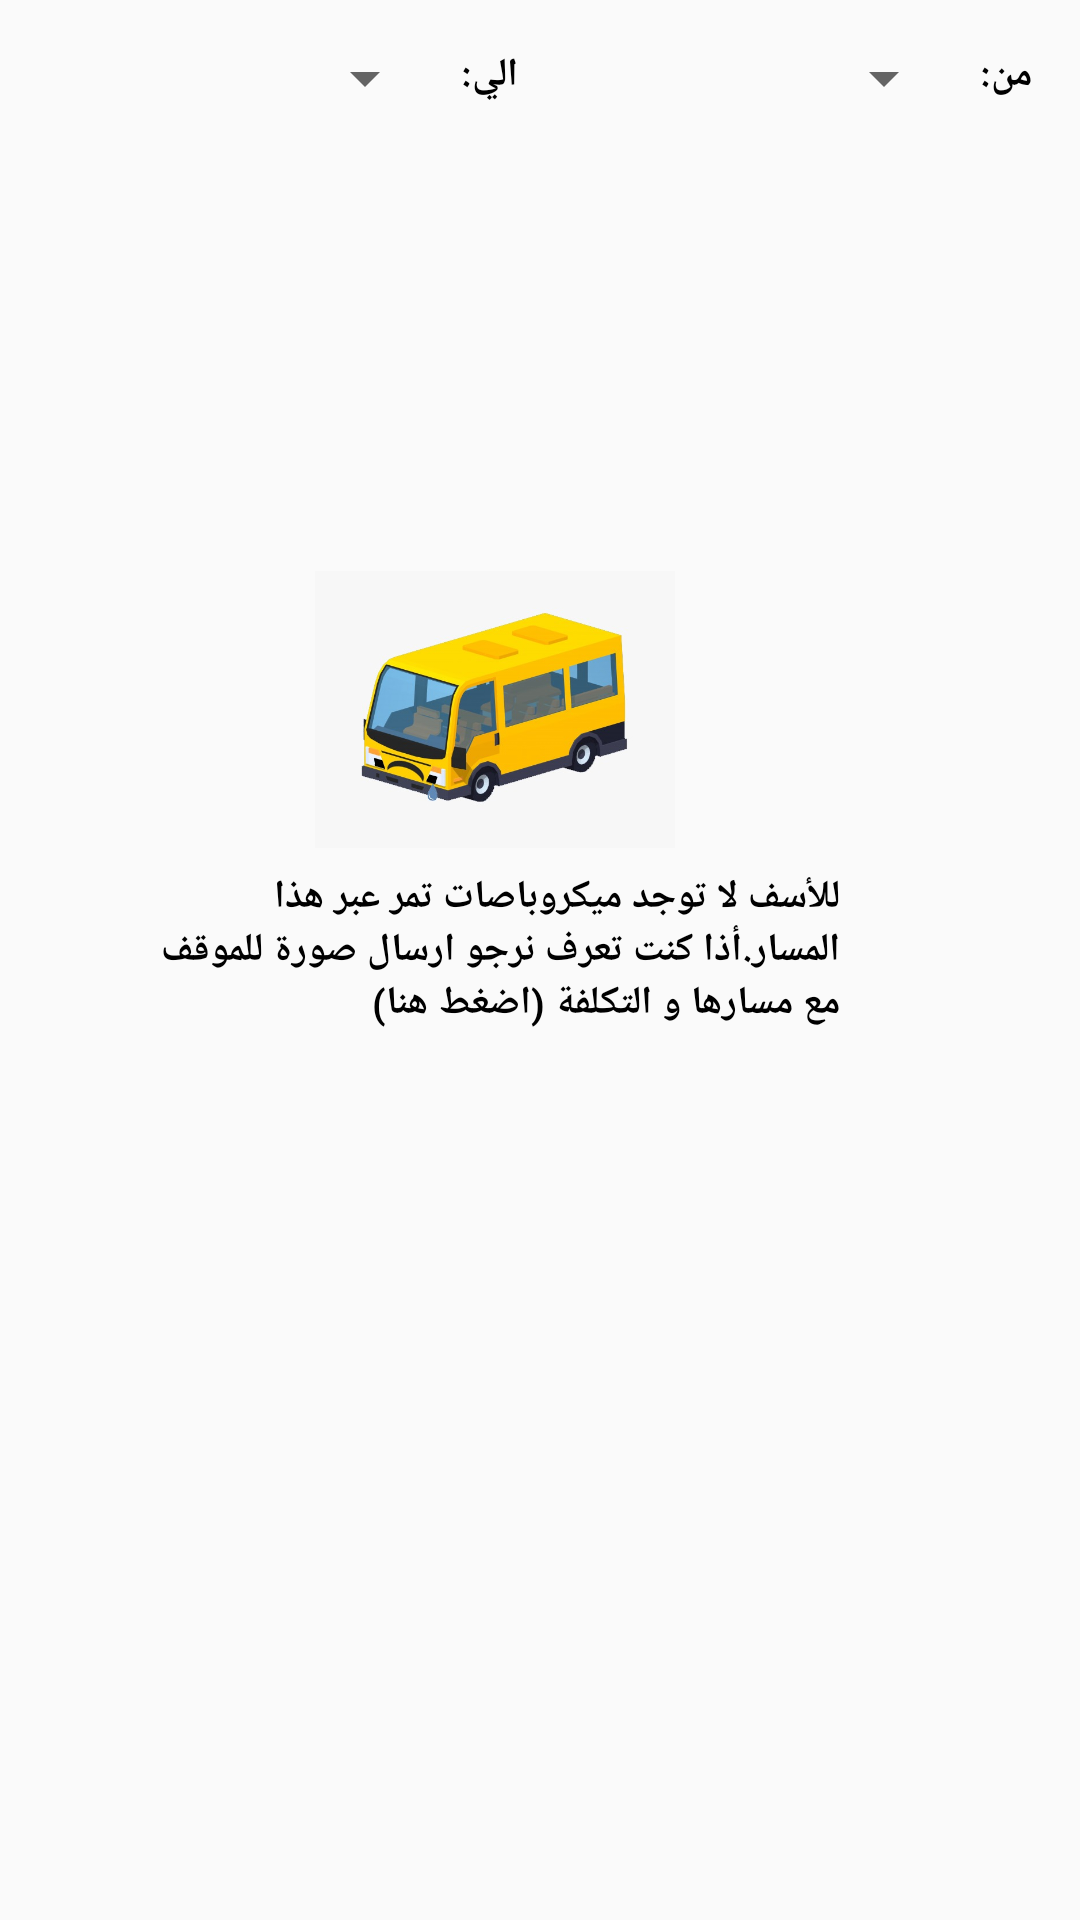

Icons on this 1080×1920 Android screen, each with the point to tap as (x=x, y=y):
sad bus: (x=494, y=707)
